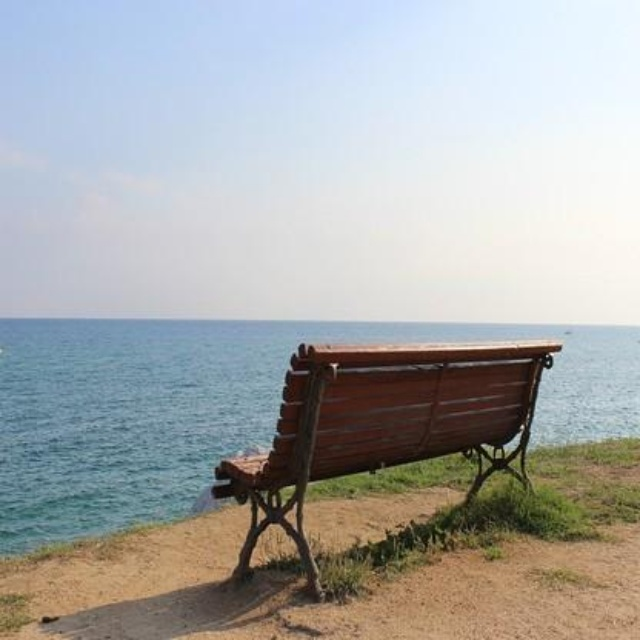obstacle: (180, 320, 585, 631)
